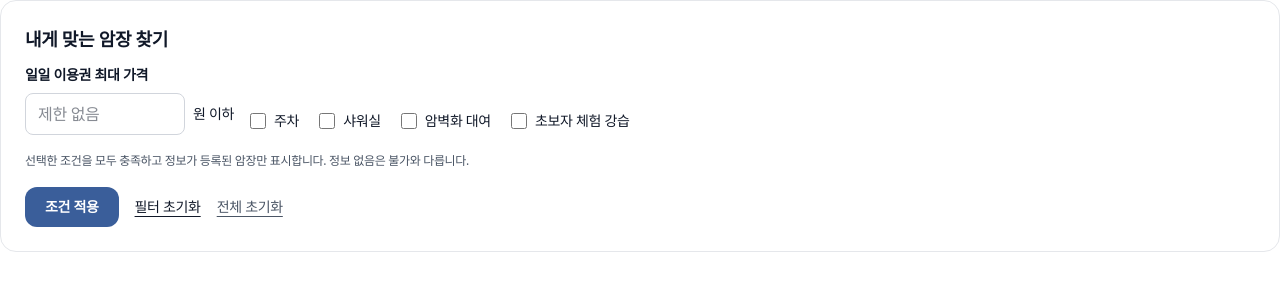
Test case: clears unsaved drafts and errors even when 전체 초기화 targets the current URL
Type "-1" into the field labelled "일일 이용권 최대 가격" at (105, 114), box [25,93,185,135]
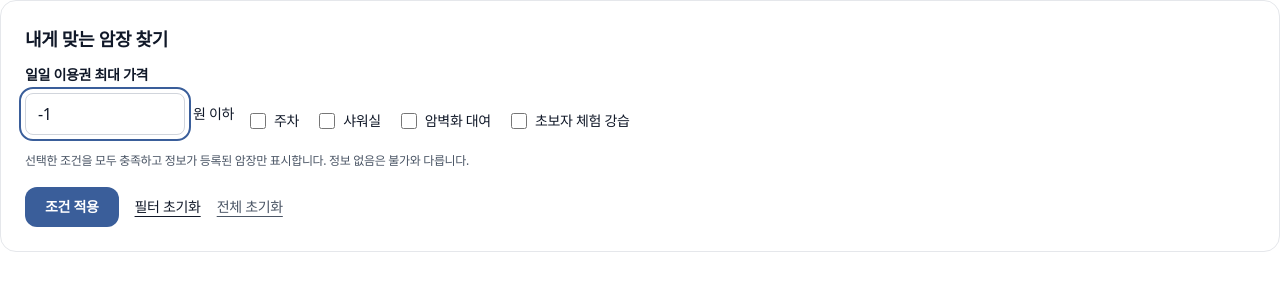
Click the checkbox labelled "주차" at (258, 121), box [250,113,266,129]
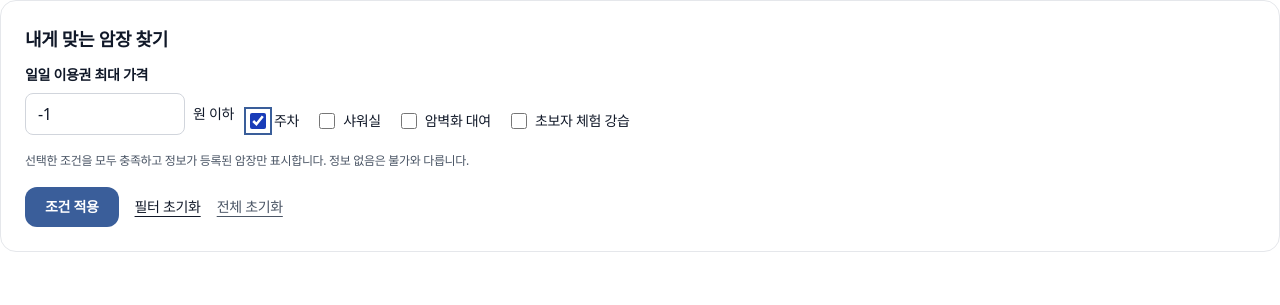
Click the button "조건 적용" at (72, 206), box [25,186,119,226]
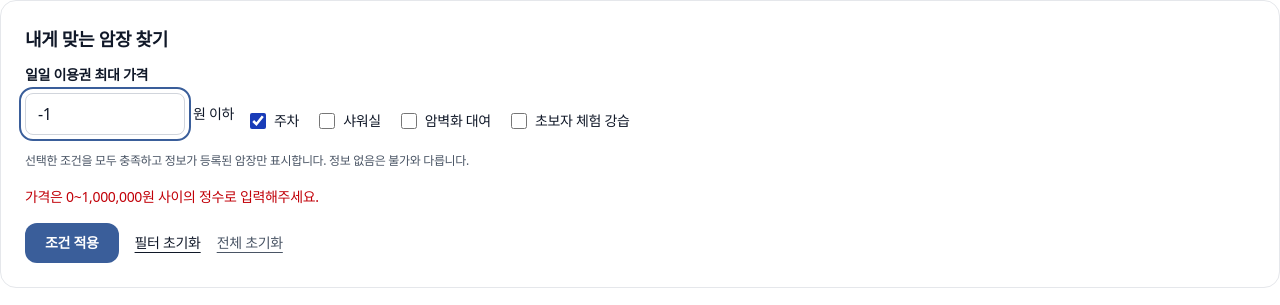
Click the link "전체 초기화" at (250, 242), box [217,232,283,252]
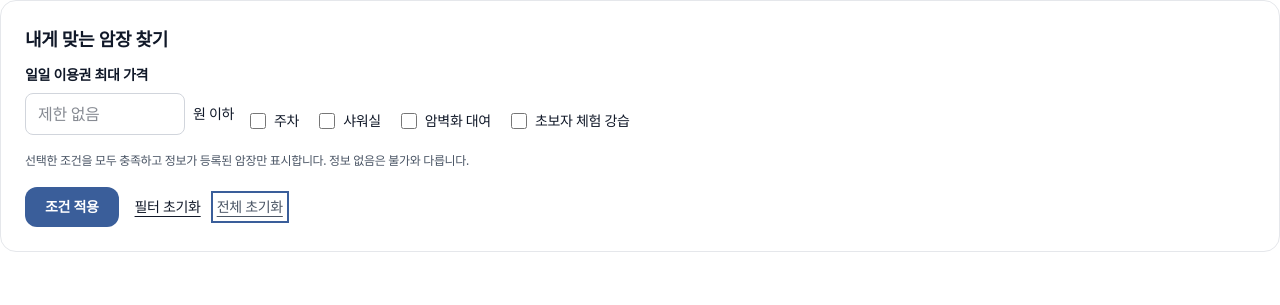
Check: the checkbox labelled "주차" is not checked, box [250,113,266,129]
Check: the field labelled "일일 이용권 최대 가격" is empty, box [25,93,185,135]
Check: the message "가격은 0~1,000,000원 사이의 정수로 입력해주세요." is gone
